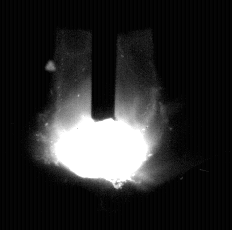arame: (91, 0, 117, 122)
poca: (37, 0, 163, 230)
